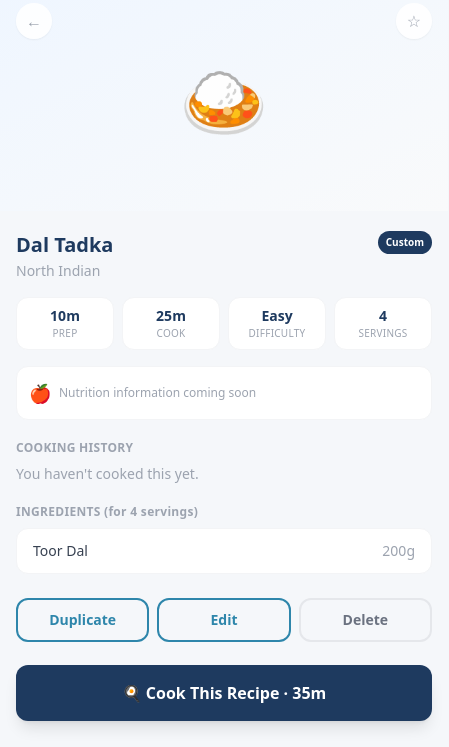
Test: RecipeDetail › requires a second confirming tap before actually deleting
This screenshot has width=449, height=747.
Click the button "Delete" at (365, 620), box [299,598,432,642]
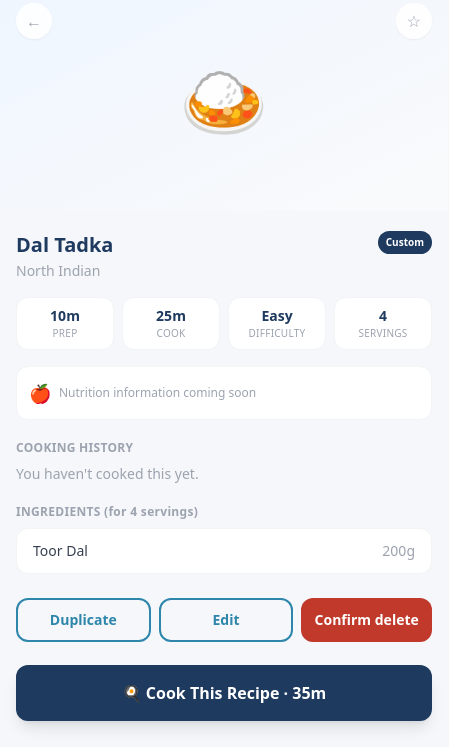
Check: the button "Confirm delete" is shown, box [301,598,432,642]
